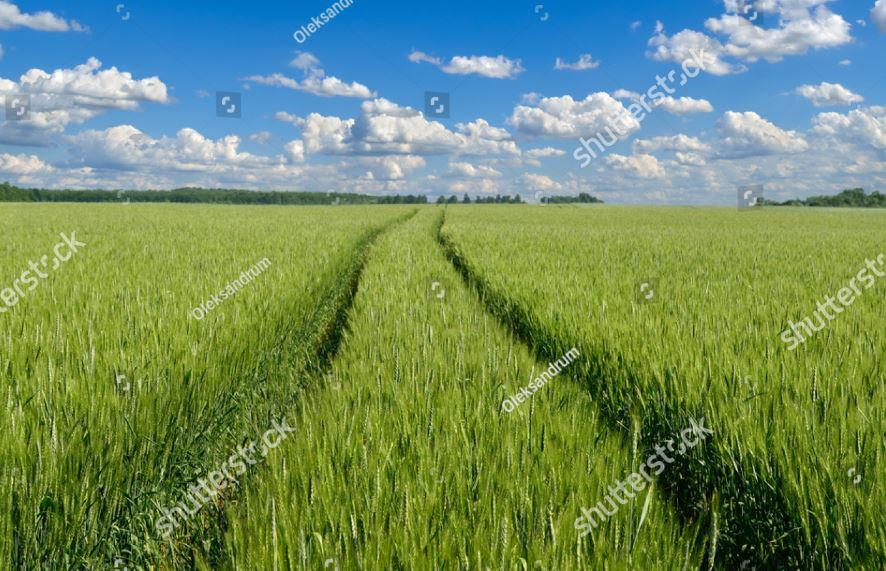Wheat: (338, 328, 558, 571)
